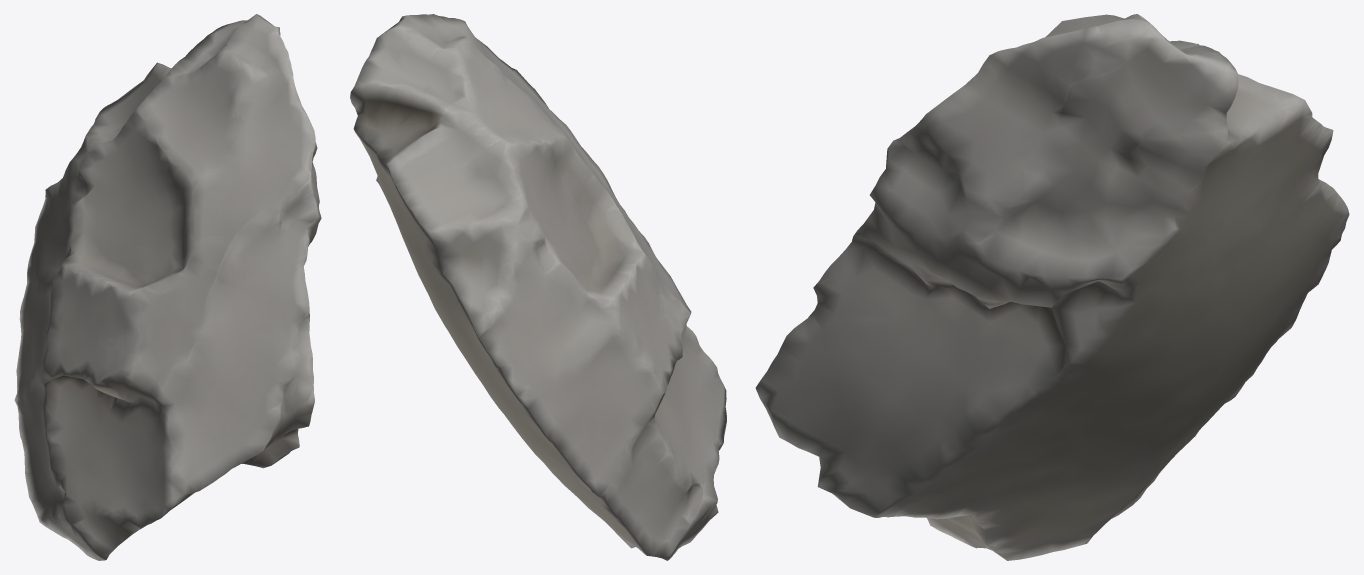
The model's file is original_glb.glb.
3 renders of one model, left to right at view 1: azimuth 30°, elevation 25°; view 2: azimuth 150°, elevation 25°; view 3: azimuth 270°, elevation 25°, orthographic. The views are drawn at different scales.
Parts seen in each view (by area): view 1: rubble-chunk-b; view 2: rubble-chunk-b; view 3: rubble-chunk-b.
Part boxes in pixels (x1=…): rubble-chunk-b: x1=14, y1=14, x2=321, y2=560; rubble-chunk-b: x1=350, y1=14, x2=726, y2=560; rubble-chunk-b: x1=755, y1=14, x2=1349, y2=560.
Size of the model in its own units: 0.5879 by 0.998 by 0.7832.
Materials: 1 (1 with a texture image).
